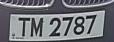2: (47, 16, 63, 39)
7: (84, 14, 98, 37), (62, 17, 75, 37)
8: (73, 15, 85, 36)
M: (31, 17, 44, 40)
T: (16, 16, 31, 40)
